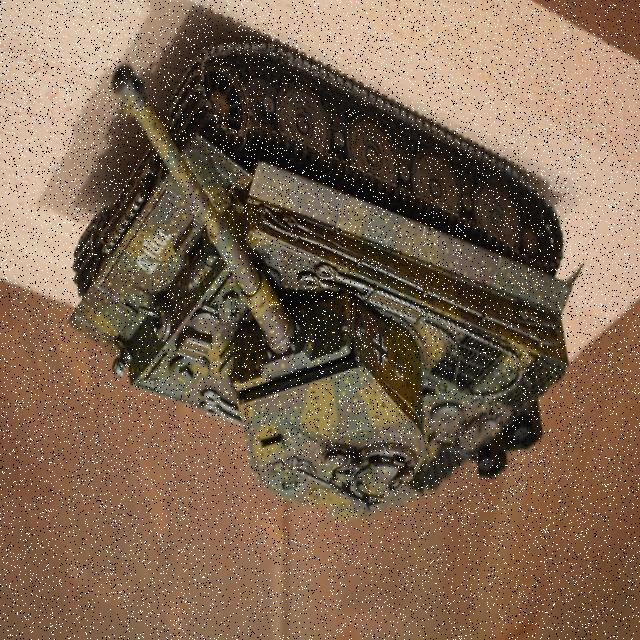MIL_MBT: (34, 21, 580, 521)
